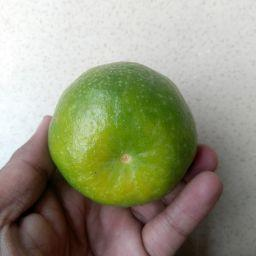Unripe: (47, 64, 198, 207)
